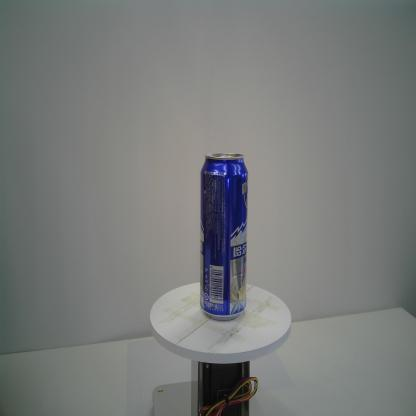Alcohol: (200, 151, 250, 323)
